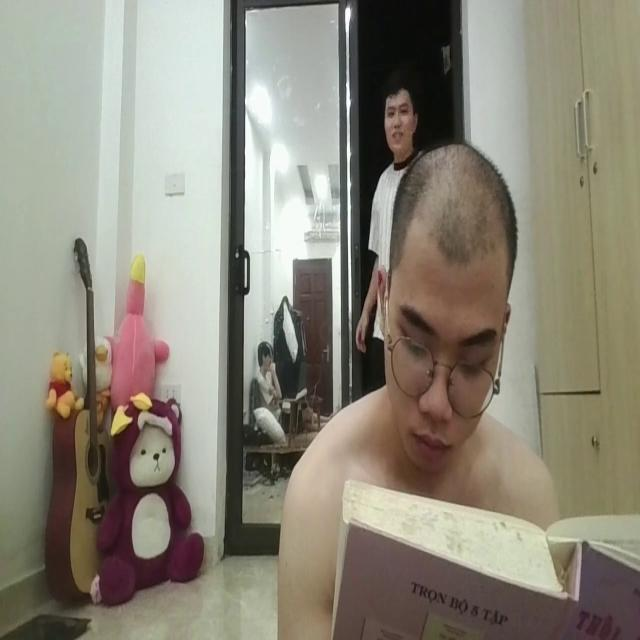book: (329, 462, 640, 640)
extra_person: (356, 62, 428, 369), (247, 326, 288, 439)
student: (273, 141, 563, 640)
